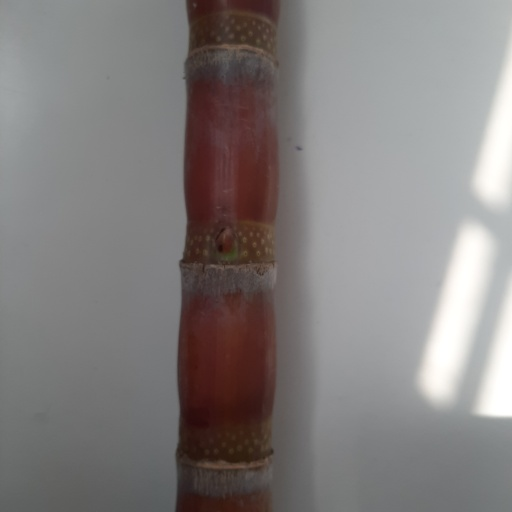Bud: (212, 226, 239, 259)
